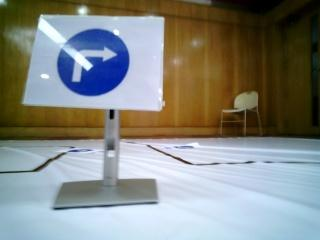right: (44, 17, 152, 102)
